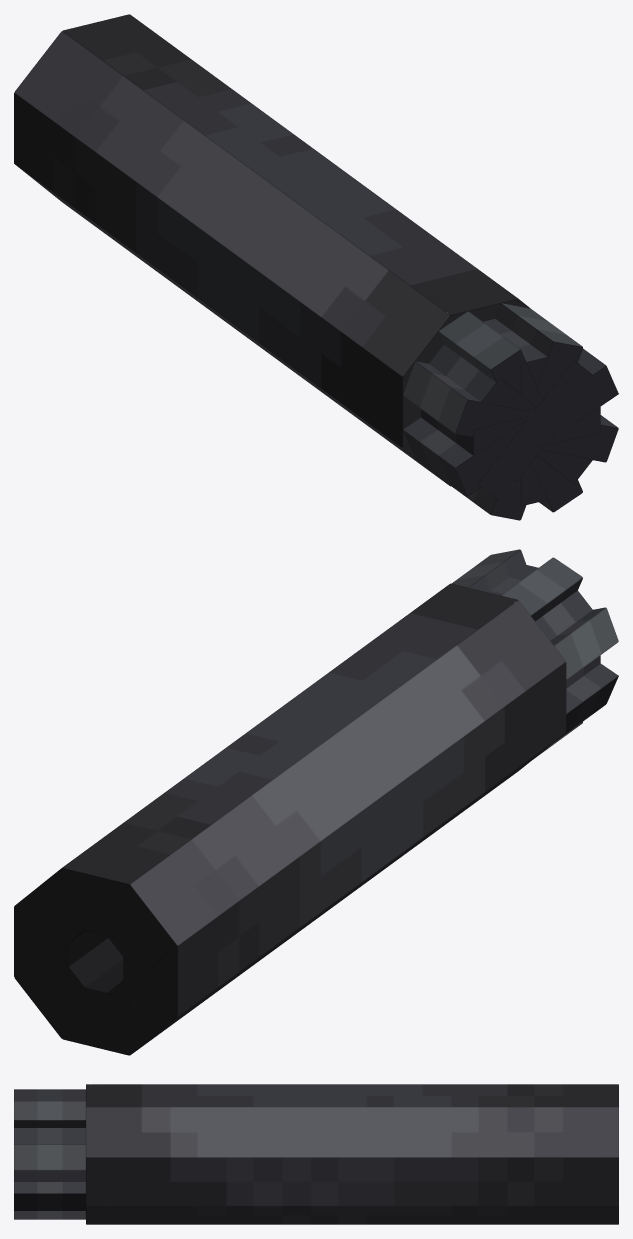
The model's file is muzzle_silencer_phantom_s1_geo - Converted.fbx.
3 renders of one model, top to bottom at view 1: azimuth 30°, elevation 25°; view 2: azimuth 150°, elevation 25°; view 3: azimuth 270°, elevation 25°, orthographic. The views are drawn at different scales.
Visible parts, largest first — view 1: G3_muzzle_s; view 2: G3_muzzle_s; view 3: G3_muzzle_s.
Part boxes in pixels (bbox=[...]): G3_muzzle_s: bbox=[14, 14, 618, 520]; G3_muzzle_s: bbox=[14, 549, 618, 1055]; G3_muzzle_s: bbox=[14, 1084, 618, 1224].
Size of the model in its own units: 14.06 by 14.06 by 65.62.
